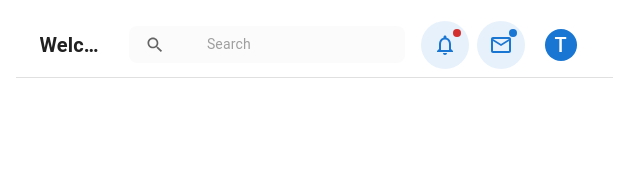
Test: Header › opens user menu when avatar is clicked
The width and height of the screenshot is (630, 191).
Click the button named "account of current user" at (560, 44), box [532, 16, 588, 72]
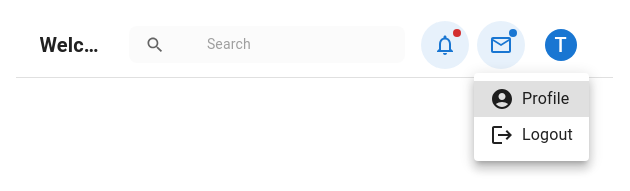
Check: the menu item "Profile" is shown, box [474, 81, 589, 117]
Check: the menu item "Logout" is shown, box [490, 123, 573, 147]
